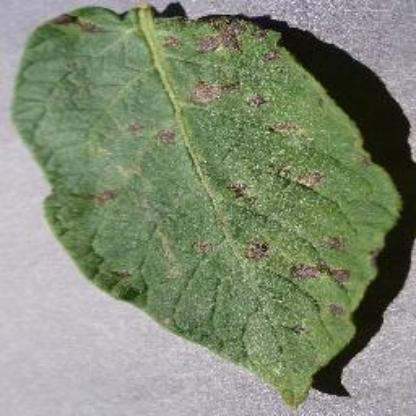Early-Blight: (12, 1, 404, 407)
